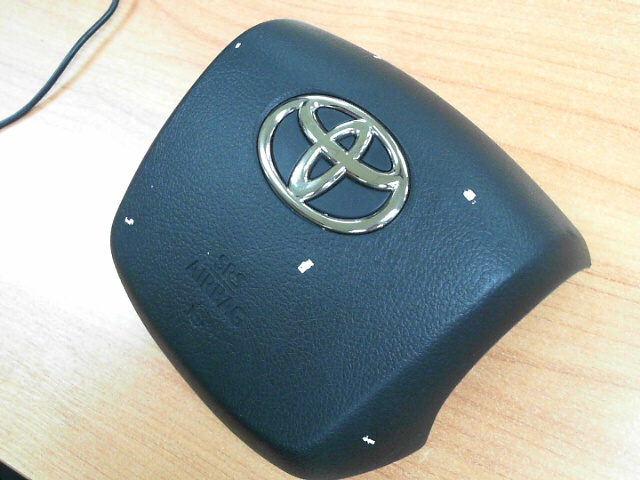Airbag: (462, 188, 478, 206), (298, 258, 314, 274), (361, 435, 376, 445), (124, 216, 134, 227), (235, 42, 241, 49)
